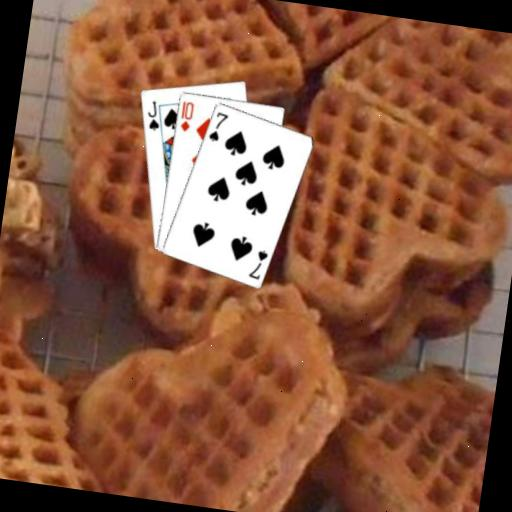10D: (176, 98, 196, 134)
7S: (205, 108, 230, 145), (245, 245, 270, 282)
JS: (142, 97, 164, 133)
